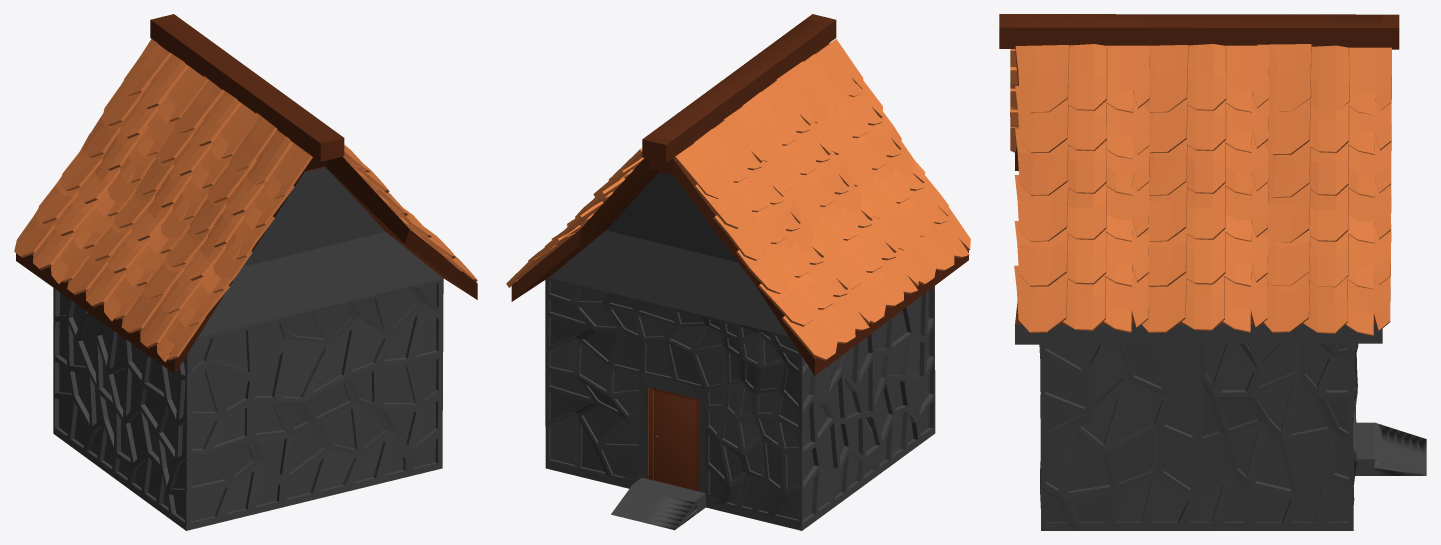
Rendered from rumah(1).fbx.
The picture shows the model from 3 angles, left to right: view 1: azimuth 30°, elevation 25°; view 2: azimuth 150°, elevation 25°; view 3: azimuth 270°, elevation 25°; orthographic projection. The views are drawn at different scales.
Visible parts, largest first — view 1: Plane.024; view 2: Plane.024, Door; view 3: Plane.024.
Part boxes in pixels (bbox=[...]): Plane.024: bbox=[14, 14, 477, 530]; Plane.024: bbox=[506, 14, 970, 530]; Door: bbox=[654, 390, 696, 490]; Plane.024: bbox=[999, 14, 1426, 530].
Size of the model in its own units: 3493 by 3840 by 3404.
